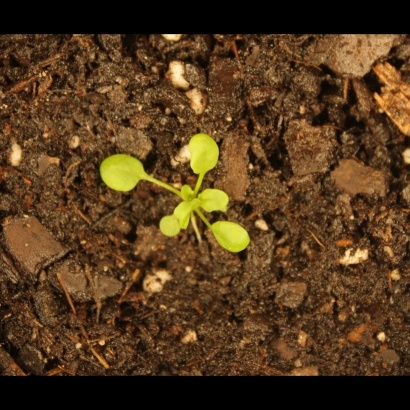leaf: (97, 145, 151, 196), (179, 127, 229, 180), (205, 216, 255, 260), (196, 187, 232, 213), (155, 211, 182, 244), (172, 180, 195, 203), (173, 204, 196, 227)
